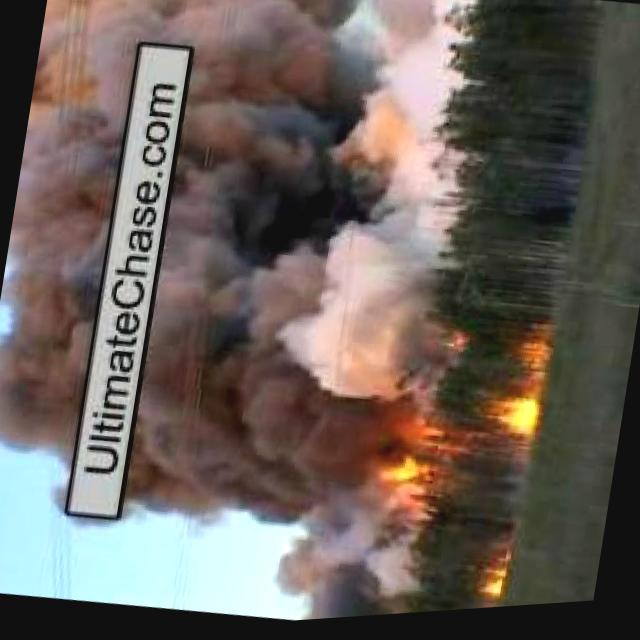Fire: (364, 457, 424, 501), (482, 398, 535, 444), (514, 343, 555, 388), (469, 565, 507, 610)
Smoke: (105, 0, 482, 634), (0, 0, 142, 483)
